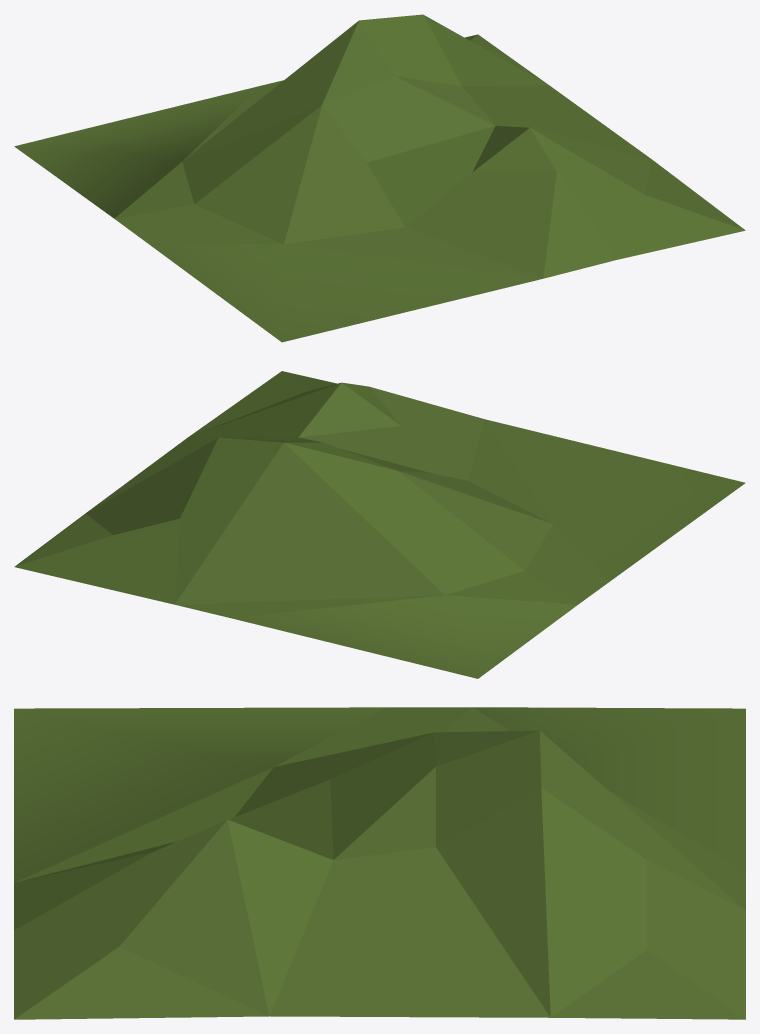
File: LightVegetationFloorMediumMound2.fbx
The picture shows the model from 3 angles, top to bottom: view 1: azimuth 30°, elevation 25°; view 2: azimuth 150°, elevation 25°; view 3: azimuth 270°, elevation 25°; orthographic projection. The views are drawn at different scales.
Parts seen in each view (by area): view 1: LightVegetationFloorMediumMound2; view 2: LightVegetationFloorMediumMound2; view 3: LightVegetationFloorMediumMound2.
Boxes of the visible parts, box(x1,y1,x2,y2) form: LightVegetationFloorMediumMound2: box(14, 14, 745, 342); LightVegetationFloorMediumMound2: box(14, 371, 745, 678); LightVegetationFloorMediumMound2: box(14, 707, 745, 1019).
Bounding box in the file's own units: 700 × 168 × 700.
